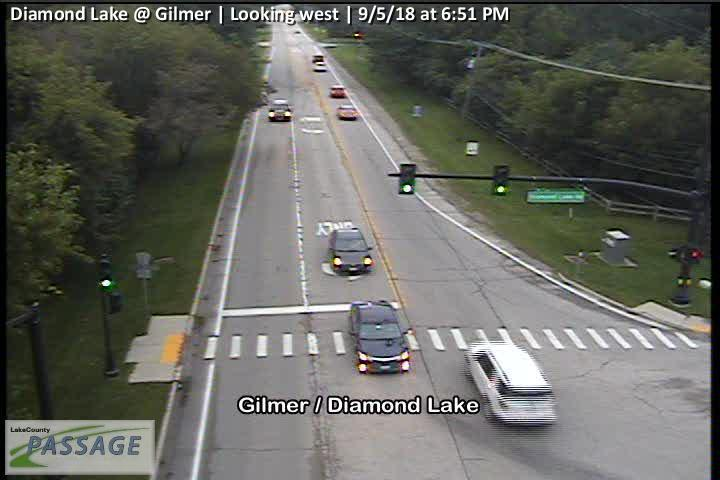SUV: (463, 341, 557, 428), (269, 99, 292, 121), (312, 55, 324, 65)
Sedan: (350, 299, 410, 375), (328, 227, 375, 274), (337, 104, 357, 120), (330, 85, 345, 97), (313, 61, 327, 71)
